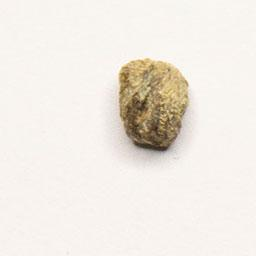defect: (114, 53, 193, 155)
